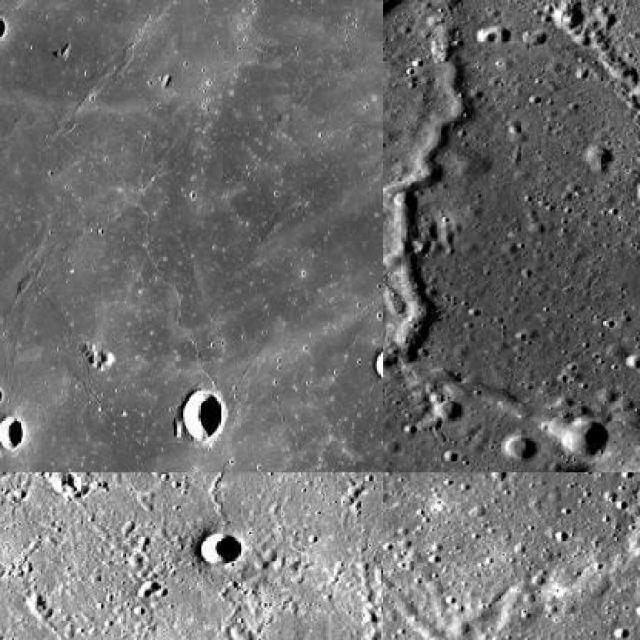rille: (0, 86, 382, 471), (383, 0, 554, 437), (502, 472, 638, 546)
